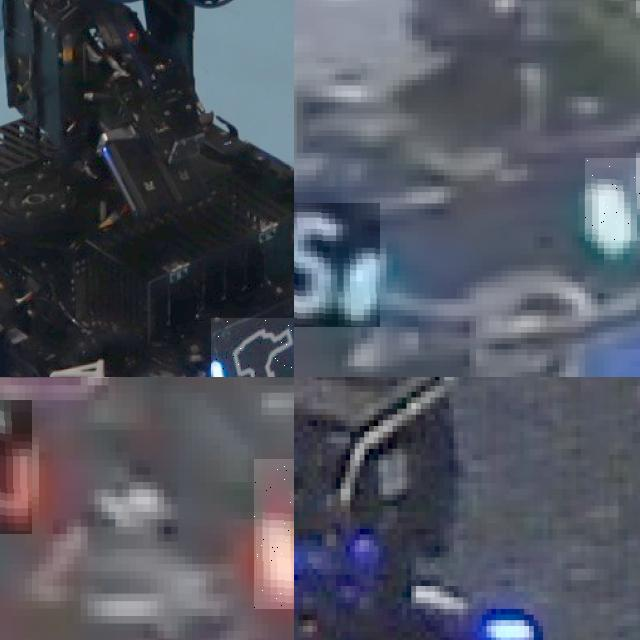B5: (294, 203, 379, 326), (585, 158, 640, 242)
Bs: (211, 318, 294, 377)
R5: (254, 459, 294, 608), (0, 400, 32, 534)
